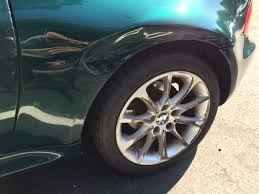Dent: (15, 34, 125, 92)
